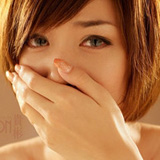face: (14, 1, 130, 128)
